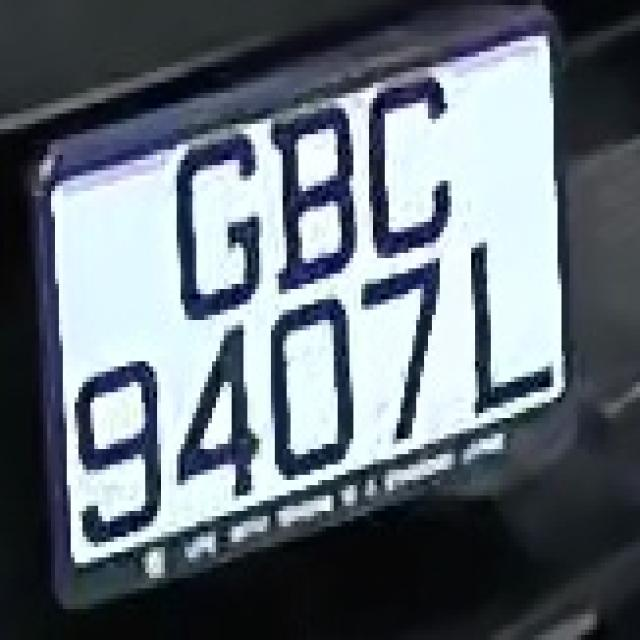0: (259, 289, 365, 480)
4: (169, 325, 263, 511)
7: (353, 263, 444, 470)
9: (63, 361, 169, 547)
B: (263, 114, 357, 294)
C: (366, 82, 460, 253)
G: (161, 150, 263, 340)
L: (459, 232, 554, 418)
